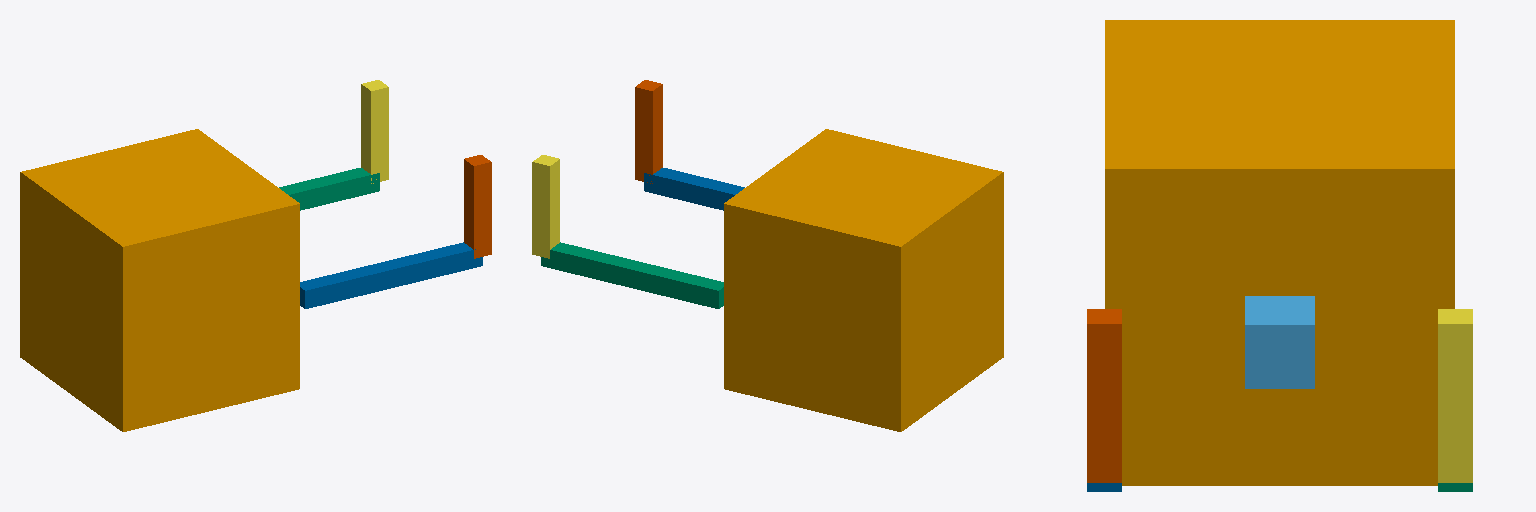
The robot description file, URDF, robot "robot":
<?xml version="1.0"?>

<robot name="robot">

    <!-- Robot's body -->
    <link name="body_link">
        <inertial>
            <origin xyz="0 0 0" rpy="0 0 0"/>
            <mass value="1"/>
            <inertia ixx="0.1" ixy="0.0" ixz="0.0" iyy="0.1" iyz="0.0" izz="0.1"/>
        </inertial>
        <visual>
            <origin xyz="0 0 0" rpy="0 0 0"/>
            <geometry>
                <box size="1 1 1"/>
            </geometry>
        </visual>
        <collision>
            <origin xyz="0 0 0" rpy="0 0 0"/>
            <geometry>
                <box size="1 1 1"/>
            </geometry>
        </collision>
    </link>
	
    <!-- Robot's nose -->
    <link name="nose_link">
        <inertial>
            <origin xyz="0 0 0" rpy="0 0 0"/>
            <mass value="1"/>
            <inertia ixx="0.1" ixy="0.0" ixz="0.0" iyy="0.1" iyz="0.0" izz="0.1"/>
        </inertial>
        <visual>
            <origin xyz="0 0 0" rpy="0 0 0"/>
            <geometry>
                <box size=".2 .2 .2"/>
            </geometry>
        </visual>
        <collision>
            <origin xyz="0 0 0" rpy="0 0 0"/>
            <geometry>
                <box size=".2 .2 .2"/>
            </geometry>
        </collision>
    </link>
	
    <!-- Joint: base, nose -->
    <joint name="body_nose_joint" type="fixed">
        <parent link="body_link"/>
        <child link="nose_link"/>
        <origin xyz=".6 0 0" rpy="0 0 0"/>
        <axis xyz="0 1 0"/>
    </joint>

    <!-- Robot's left arm -->
    <link name="left_arm_link">
        <inertial>
            <origin xyz=".5 .5 0" rpy="0 0 0"/>
            <mass value="1"/>
            <inertia ixx="0.1" ixy="0.0" ixz="0.0" iyy="0.1" iyz="0.0" izz="0.1"/>
        </inertial>
        <visual>
            <origin xyz=".5 .5 0" rpy="0 0 0"/>
            <geometry>
                <box size="1 0.1 0.1"/>
            </geometry>
        </visual>
        <collision>
            <origin xyz=".5 .5 0" rpy="0 0 0"/>
            <geometry>
                <box size="1 0.1 0.1"/>
            </geometry>
        </collision>
    </link>

    <!-- Joint: base, left arm -->
    <joint name="body_left_arm_joint" type="continuous">
        <parent link="body_link"/>
        <child link="left_arm_link"/>
        <origin xyz="0.5 0 0" rpy="0 0 0"/>
        <axis xyz="0 1 0"/>
    </joint>
	
	<!-- Robot's left hand -->
	<link name="left_hand_link">
		<inertial>
			<origin xyz="0 0 .25" rpy="0 0 0"/>
			<mass value="1"/>
			<inertia ixx="0.01" ixy="0.0" ixz="0.0" iyy="0.01" iyz="0.0" izz="0.01"/>
		</inertial>
		<visual>
			<origin xyz="0 0 .25" rpy="0 0 0"/>
			<geometry>
				<box size="0.1 0.1 0.5"/>
			</geometry>
		</visual>
		<collision>
			<origin xyz="0 0 .25" rpy="0 0 0"/>
			<geometry>
				<box size="0.1 0.1 0.5"/>
			</geometry>
		</collision>
	</link>

	<!-- Joint: left arm, left hand -->
	<joint name="left_arm_left_hand_joint" type="continuous">
		<parent link="left_arm_link"/>
		<child link="left_hand_link"/>
		<origin xyz="1 .5 0" rpy="0 0 0"/>
		<axis xyz="1 0 0"/>
	</joint>
	
    <!-- Robot's right arm -->
    <link name="right_arm_link">
        <inertial>
            <origin xyz=".5 -.5 0" rpy="0 0 0"/>
            <mass value="1"/>
            <inertia ixx="0.1" ixy="0.0" ixz="0.0" iyy="0.1" iyz="0.0" izz="0.1"/>
        </inertial>
        <visual>
            <origin xyz=".5 -.5 0" rpy="0 0 0"/>
            <geometry>
                <box size="1 0.1 0.1"/>
            </geometry>
        </visual>
        <collision>
            <origin xyz=".5 -.5 0" rpy="0 0 0"/>
            <geometry>
                <box size="1 0.1 0.1"/>
            </geometry>
        </collision>
    </link>

    <!-- Joint: base, right arm -->
    <joint name="body_right_arm_joint" type="continuous">
        <parent link="body_link"/>
        <child link="right_arm_link"/>
        <origin xyz="0.5 0 0" rpy="0 0 0"/>
        <axis xyz="0 1 0"/>
    </joint>
	
	<!-- Robot's right hand -->
	<link name="right_hand_link">
		<inertial>
			<origin xyz="0 0 .25" rpy="0 0 0"/>
			<mass value="1"/>
			<inertia ixx="0.01" ixy="0.0" ixz="0.0" iyy="0.01" iyz="0.0" izz="0.01"/>
		</inertial>
		<visual>
			<origin xyz="0 0 .25" rpy="0 0 0"/>
			<geometry>
				<box size="0.1 0.1 0.5"/>
			</geometry>
		</visual>
		<collision>
			<origin xyz="0 0 .25" rpy="0 0 0"/>
			<geometry>
				<box size="0.1 0.1 0.5"/>
			</geometry>
		</collision>
	</link>

	<!-- Joint: right arm, right hand -->
	<joint name="right_arm_right_hand_joint" type="continuous">
		<parent link="right_arm_link"/>
		<child link="right_hand_link"/>
		<origin xyz="1 -.5 0" rpy="0 0 0"/>
		<axis xyz="1 0 0"/>
	</joint>

</robot>

--- Render facts (derived) ---
The picture shows the robot from 3 angles, left to right: view 1: azimuth 30°, elevation 25°; view 2: azimuth 150°, elevation 25°; view 3: azimuth 270°, elevation 25°; orthographic projection.
Robot: robot — 6 links, 5 joints (4 continuous, 1 fixed); root link body_link; default pose: every joint at zero.
Links seen in each view (by area): view 1: body_link, right_arm_link, right_hand_link, left_hand_link, left_arm_link; view 2: body_link, left_arm_link, left_hand_link, right_hand_link, right_arm_link; view 3: body_link, nose_link, left_hand_link, right_hand_link.
Link boxes in pixels (left/top/right/bottom): body_link: left=20, top=129, right=299, bottom=431; right_arm_link: left=300, top=242, right=482, bottom=308; right_hand_link: left=464, top=155, right=491, bottom=258; left_hand_link: left=361, top=80, right=388, bottom=183; left_arm_link: left=279, top=168, right=379, bottom=210; body_link: left=724, top=129, right=1003, bottom=431; left_arm_link: left=541, top=242, right=723, bottom=308; left_hand_link: left=532, top=155, right=559, bottom=258; right_hand_link: left=635, top=80, right=662, bottom=183; right_arm_link: left=644, top=168, right=744, bottom=210; body_link: left=1105, top=20, right=1454, bottom=485; nose_link: left=1245, top=296, right=1314, bottom=388; left_hand_link: left=1438, top=309, right=1472, bottom=482; right_hand_link: left=1087, top=309, right=1121, bottom=482.
Size in the robot's own frame: 2.05 by 1.1 by 1 metres.
Geometry: primitives only (box / cylinder / sphere), no mesh files.
